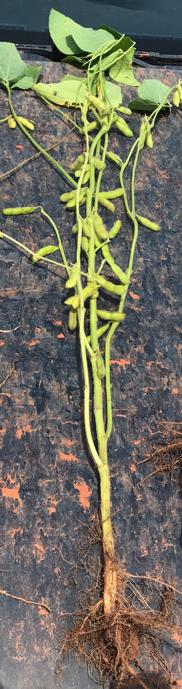soja: (98, 250, 133, 286), (85, 275, 130, 300), (131, 208, 167, 235), (93, 307, 132, 329), (61, 255, 86, 289), (29, 244, 63, 267), (90, 354, 116, 384), (86, 216, 118, 237), (143, 120, 163, 151), (133, 118, 148, 158), (2, 205, 41, 220), (90, 197, 124, 214), (62, 196, 86, 218), (111, 116, 132, 140), (63, 310, 81, 337), (85, 152, 112, 170), (87, 91, 111, 111), (76, 284, 105, 300), (88, 321, 107, 344), (98, 183, 122, 201), (112, 97, 135, 115), (57, 187, 84, 201), (68, 153, 86, 174), (19, 112, 37, 133), (80, 121, 100, 136), (171, 89, 182, 113), (74, 239, 96, 250), (3, 117, 17, 134), (74, 165, 90, 179)
